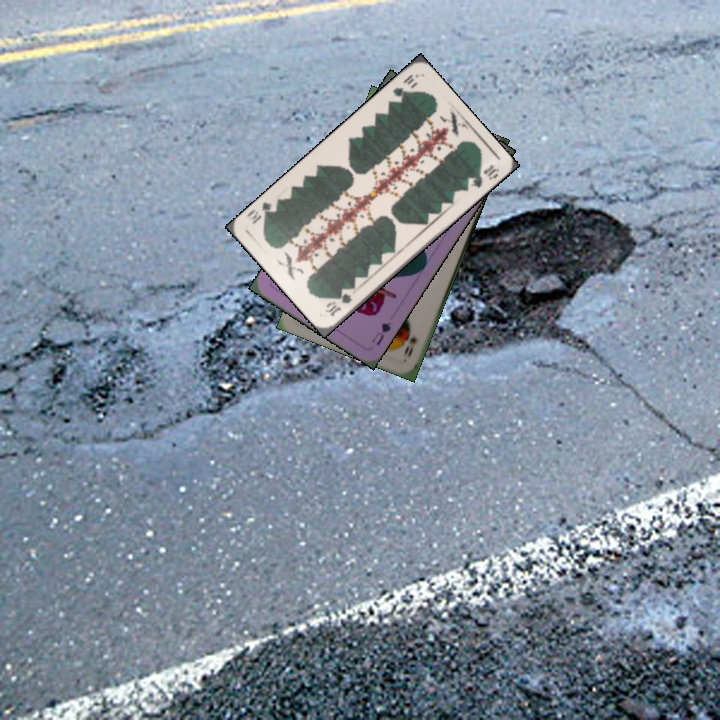G10: (321, 289, 354, 319), (389, 70, 419, 101)
GU: (368, 318, 394, 348)
SO: (399, 332, 420, 360)
